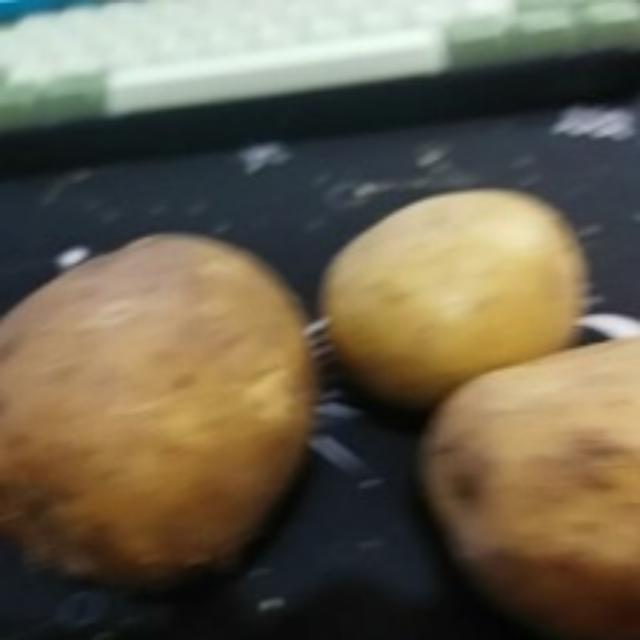Damaged potato: (1, 236, 318, 600), (410, 332, 640, 634)
Potato: (310, 186, 588, 414)
